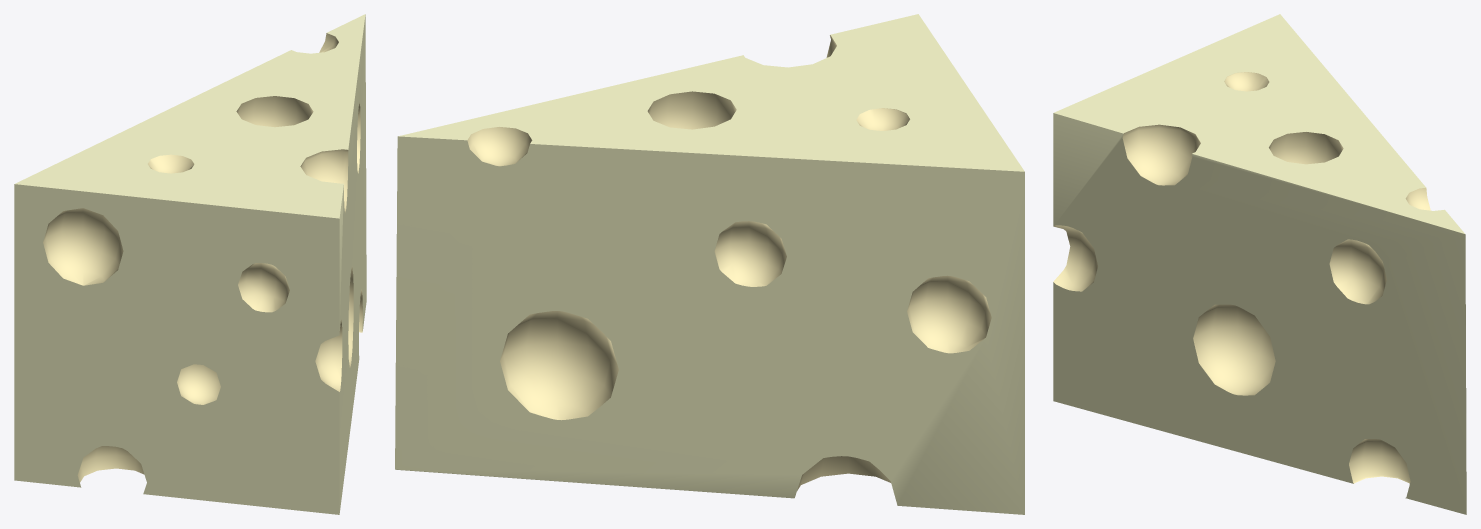
The model's file is Cheese.fbx.
3 views of the same model, side by side, from view 1: azimuth 30°, elevation 25°; view 2: azimuth 150°, elevation 25°; view 3: azimuth 270°, elevation 25° (orthographic). The views are drawn at different scales.
Parts seen in each view (by area): view 1: node_id4, node_id4.001; view 2: node_id4, node_id4.001; view 3: node_id4, node_id4.001.
Boxes of the visible parts, x1,y1,x2,y2 form: node_id4: (14,14,366,514); node_id4.001: (43,33,362,482); node_id4: (395,14,1024,514); node_id4.001: (467,35,991,490); node_id4: (1053,14,1466,514); node_id4.001: (1053,72,1430,483).
Bounding box in the file's own units: 0.308 × 0.1947 × 0.253.
